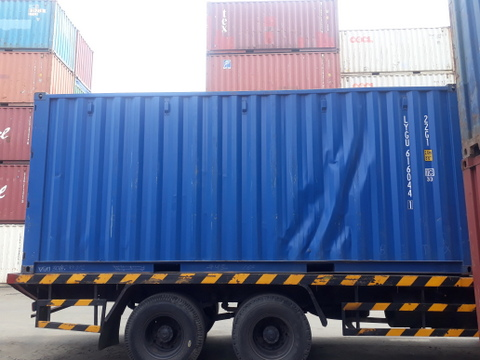bulged: (281, 121, 382, 257)
